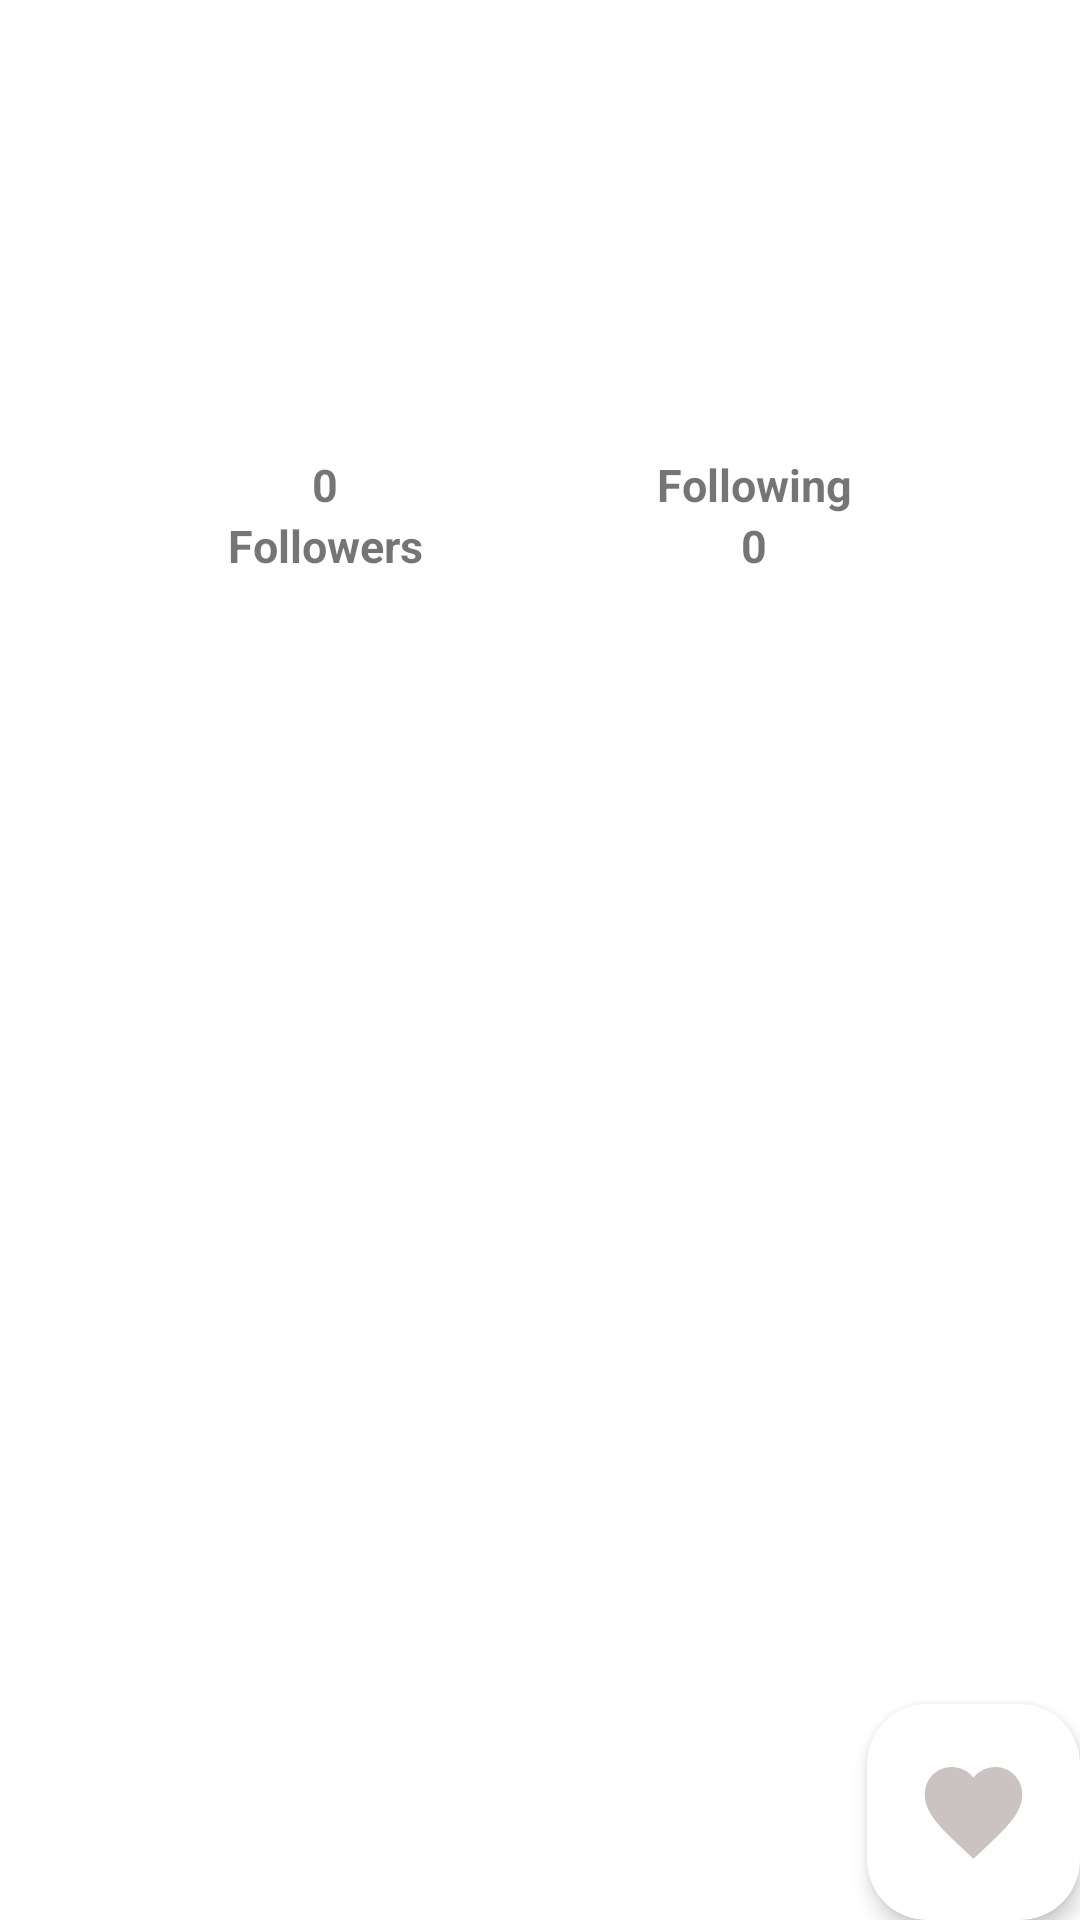

Named icons in this screenshot (1080 × 1920) and their centers, (x,y):
favoritoobang: (973,1813)
